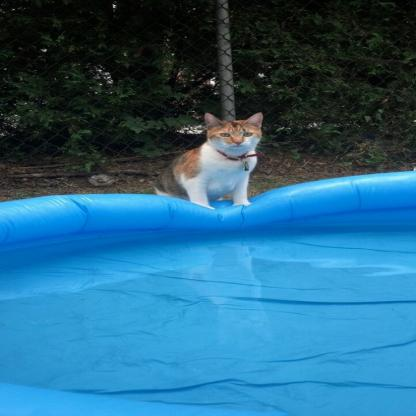Target: (152, 113, 274, 213)
